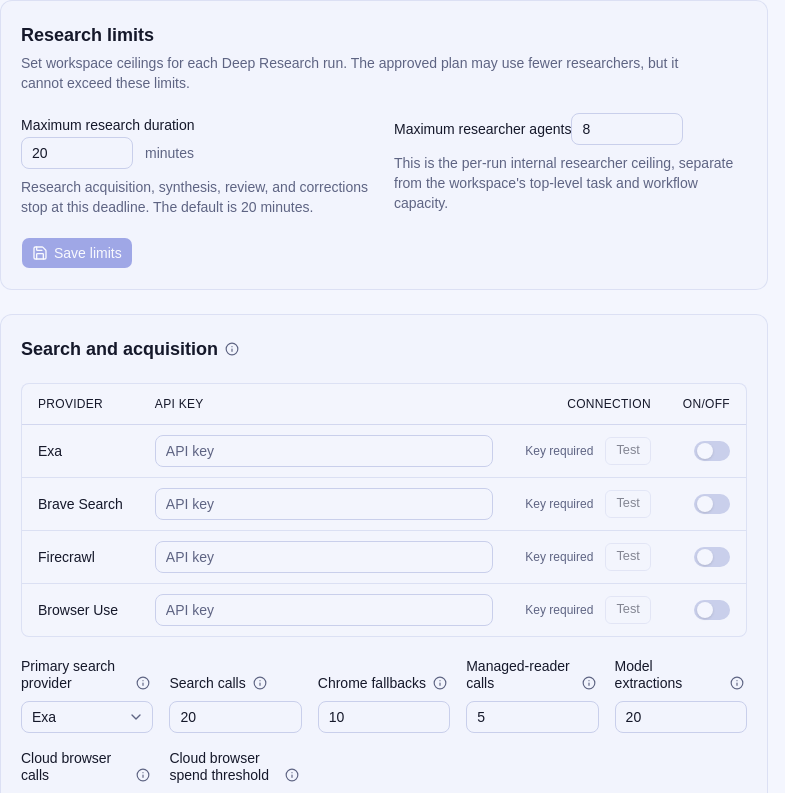
Scenario: saves each acquisition field the moment it changes, with no save button
The image size is (785, 793).
Replace the text in the number field labelled "Search calls" with "37" at (236, 716), box [169,700,302,732]
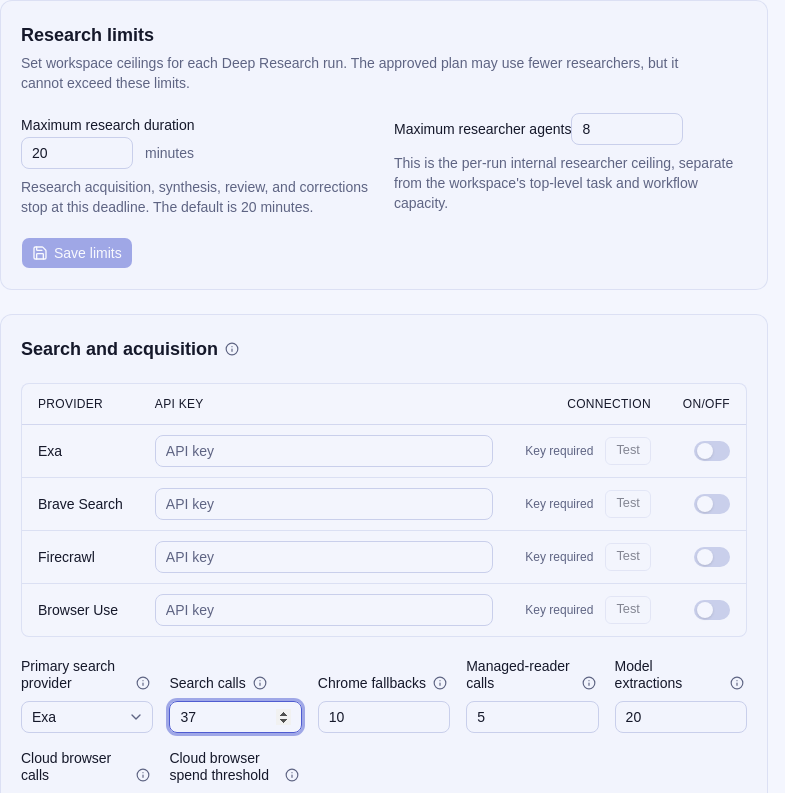
Press Tab
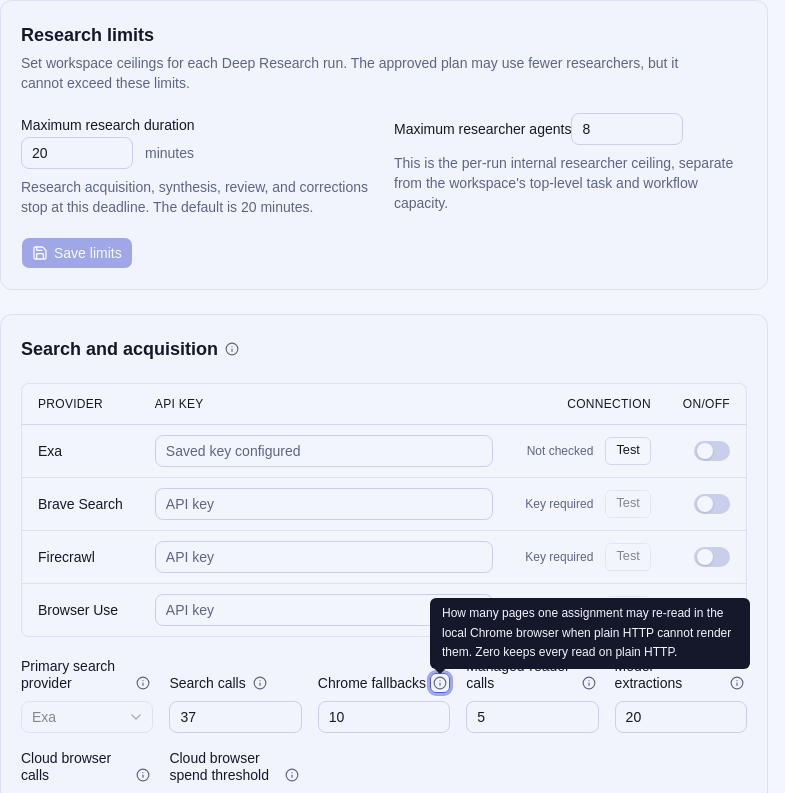
Type "exa-key" into the password field named "Exa API key" at (324, 450), box [155,434,493,466]
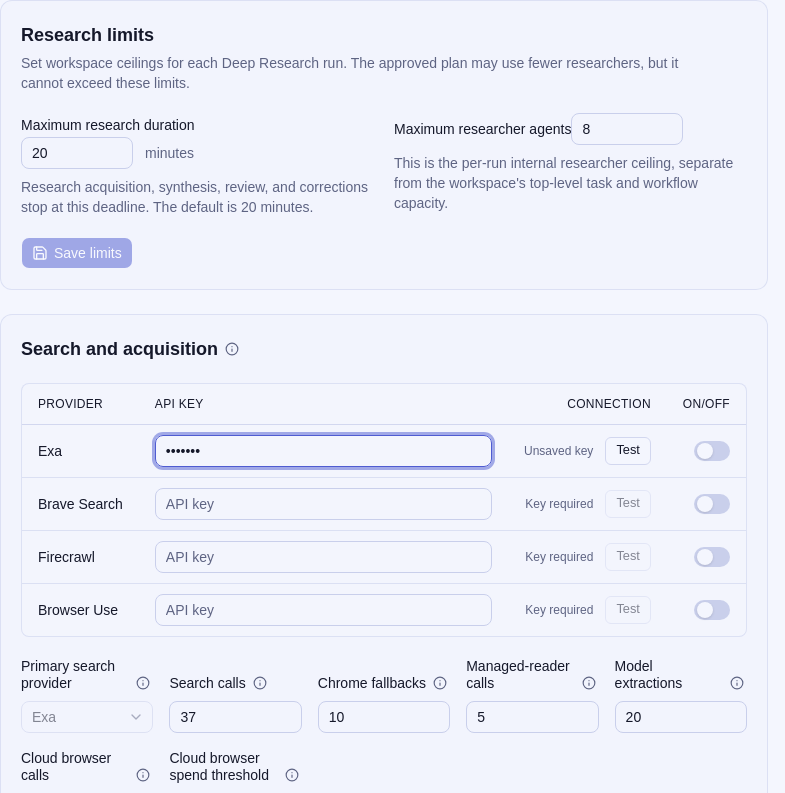
Press Tab
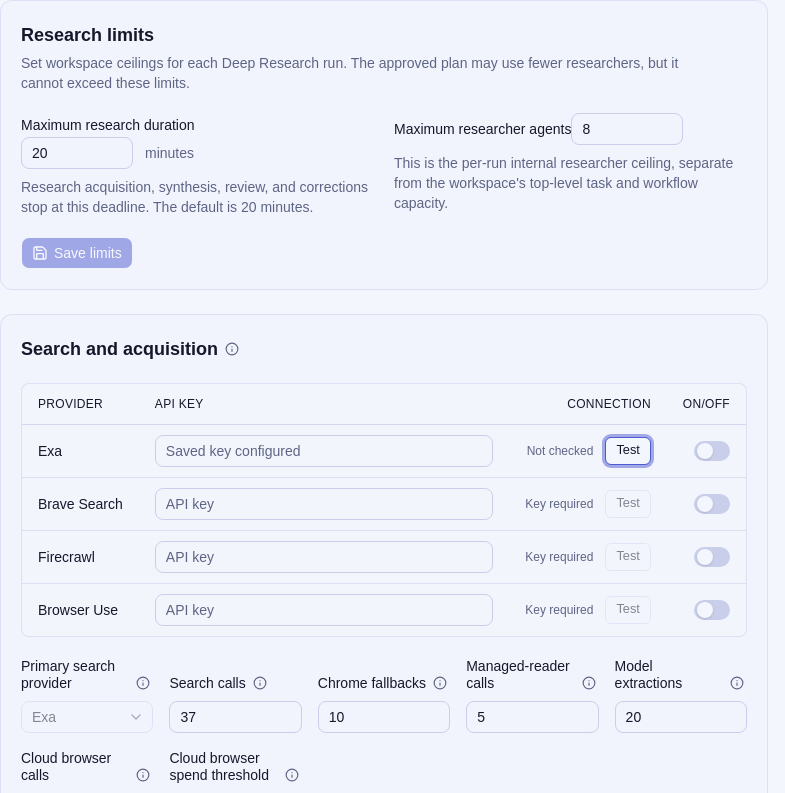
Now the password field named "Exa API key" is empty, box [155,434,493,466]
Now the text "Not checked" is shown, box [527,442,593,458]
